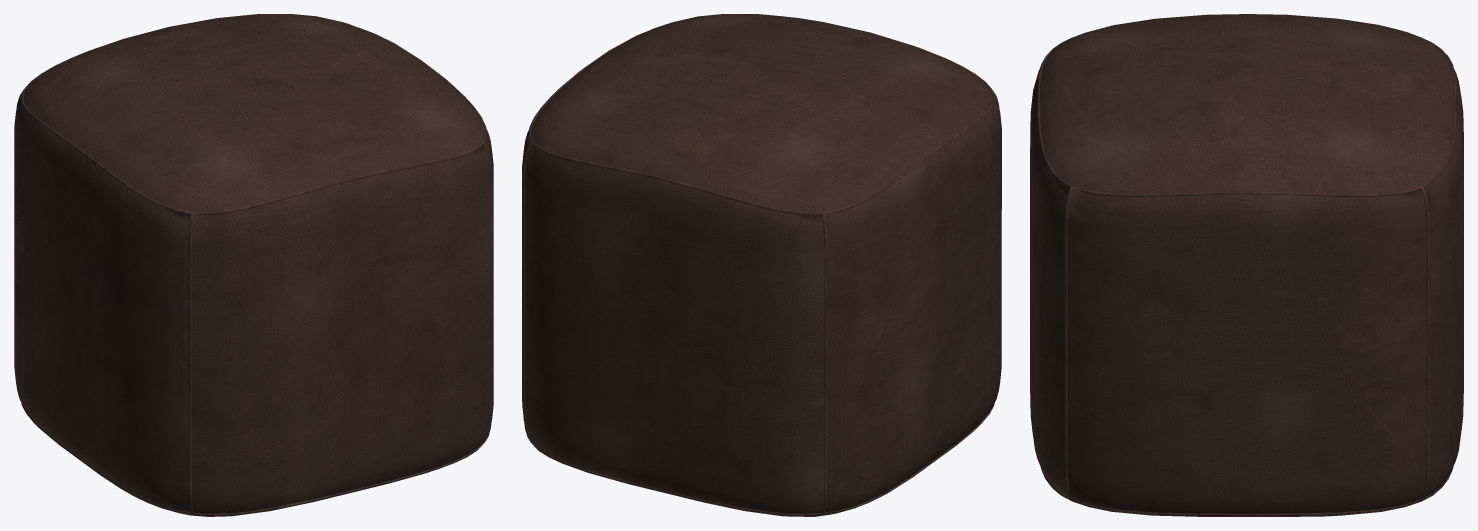
Rendered from Pufe.fbx.
3 renders of one model, left to right at view 1: azimuth 30°, elevation 25°; view 2: azimuth 150°, elevation 25°; view 3: azimuth 270°, elevation 25°, orthographic. The views are drawn at different scales.
Parts seen in each view (by area): view 1: Pufe; view 2: Pufe; view 3: Pufe.
Boxes of the visible parts, <box> form: Pufe: <box>14,14,493,516</box>; Pufe: <box>522,14,1001,516</box>; Pufe: <box>1030,14,1463,516</box>.
Bounding box in the file's own units: 45 × 42.76 × 45.
Materials: 1 (1 with a texture image).
